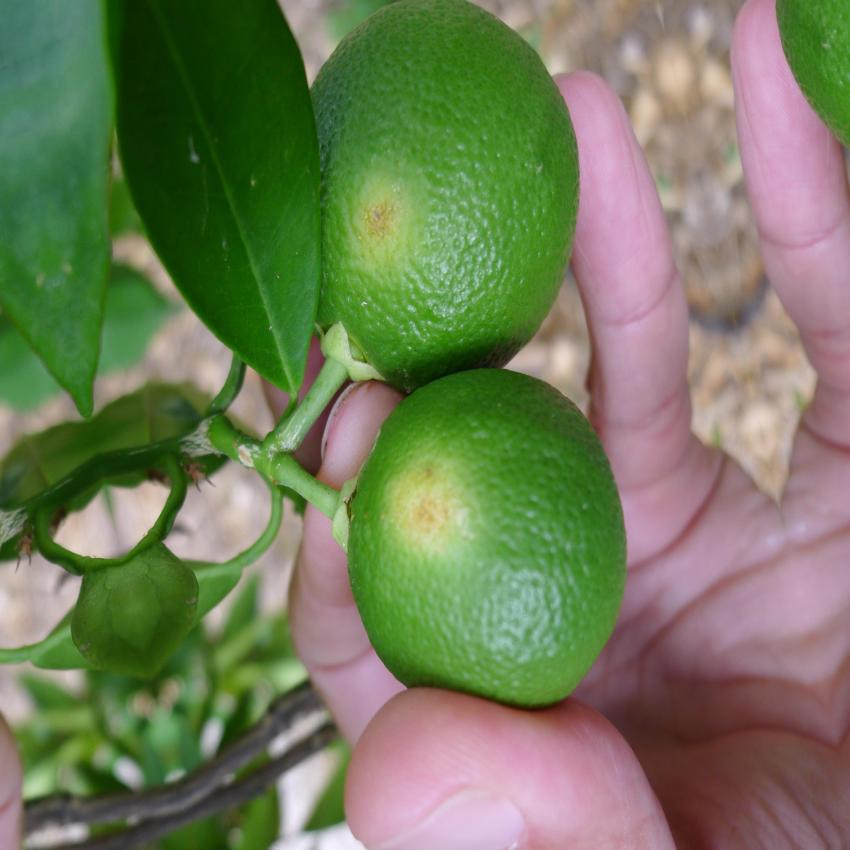Mal estado: (292, 13, 607, 384), (340, 354, 635, 735)
